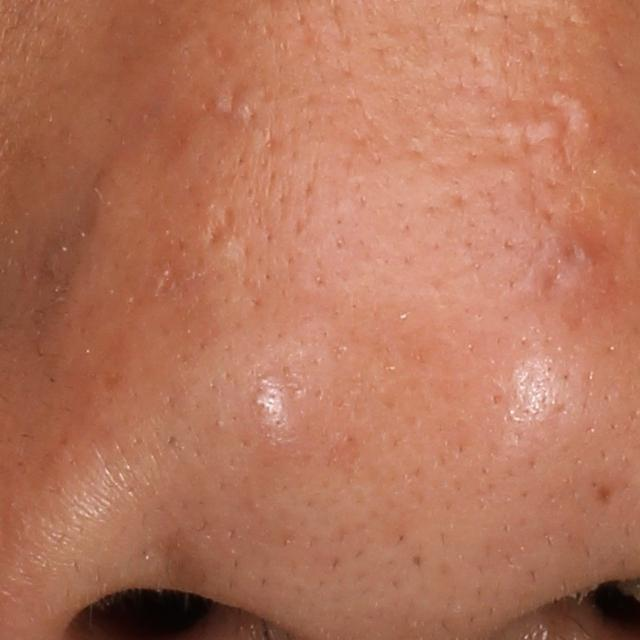atrophic_scar: (221, 82, 248, 116)
